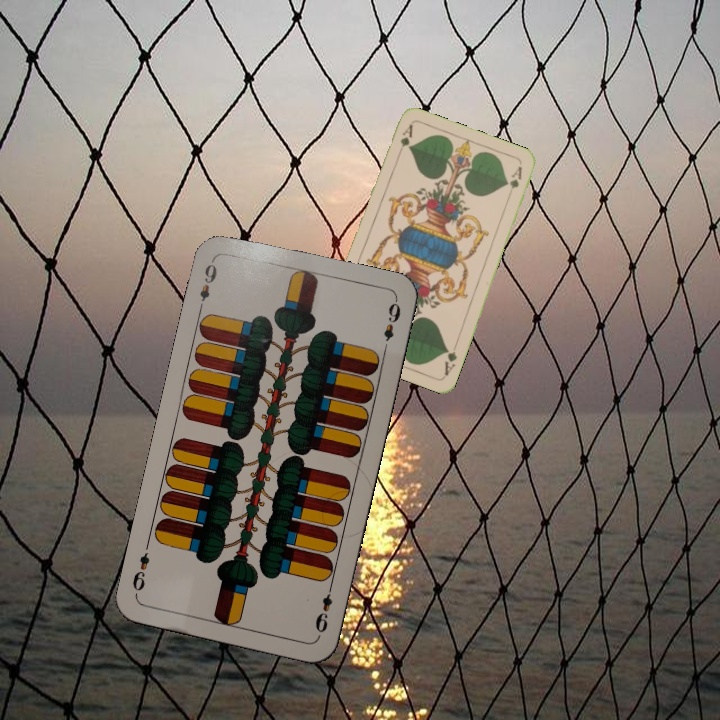E9: (194, 255, 220, 314), (311, 580, 336, 638)
GA: (393, 121, 415, 160), (440, 339, 460, 378)
